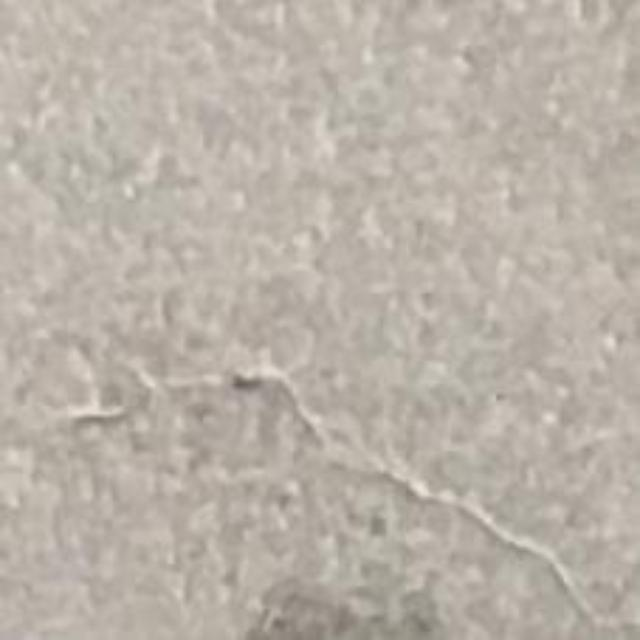crack: (232, 367, 639, 631)
